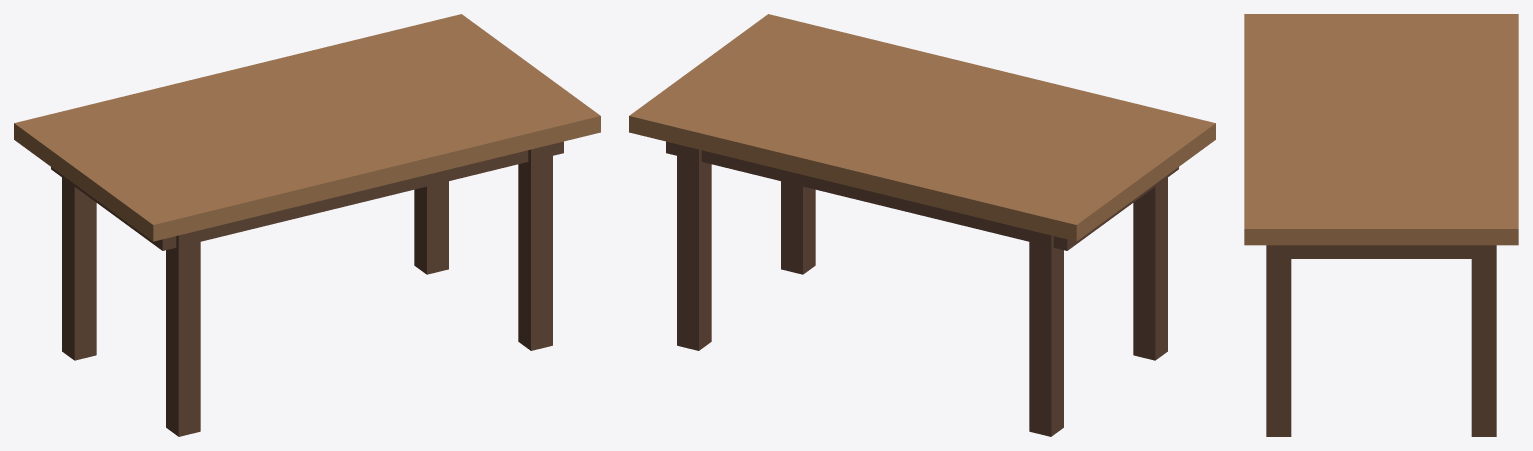
The model's file is dining_table.glb.
3 views of the same model, side by side, from view 1: azimuth 30°, elevation 25°; view 2: azimuth 150°, elevation 25°; view 3: azimuth 270°, elevation 25° (orthographic).
Visible parts, largest first — view 1: Tabletop, Leg, Leg.002, Leg.001, Apron, Leg.003; view 2: Tabletop, Leg.001, Leg.003, Leg, Apron, Leg.002; view 3: Tabletop, Leg.002, Leg.003, Apron.
Part boxes in pixels (bbox=[...]): Tabletop: bbox=[14, 14, 600, 241]; Leg: bbox=[166, 230, 200, 436]; Leg.002: bbox=[518, 144, 552, 350]; Leg.001: bbox=[62, 177, 96, 360]; Apron: bbox=[51, 141, 563, 250]; Leg.003: bbox=[414, 181, 448, 274]; Tabletop: bbox=[629, 14, 1215, 241]; Leg.001: bbox=[1029, 230, 1063, 436]; Leg.003: bbox=[677, 144, 711, 350]; Leg: bbox=[1133, 177, 1167, 360]; Apron: bbox=[666, 141, 1178, 250]; Leg.002: bbox=[781, 181, 815, 274]; Tabletop: bbox=[1244, 14, 1518, 245]; Leg.002: bbox=[1266, 245, 1291, 436]; Leg.003: bbox=[1471, 245, 1496, 436]; Apron: bbox=[1271, 245, 1491, 258].
Size of the model in its own units: 1.55 by 0.758 by 0.835.
